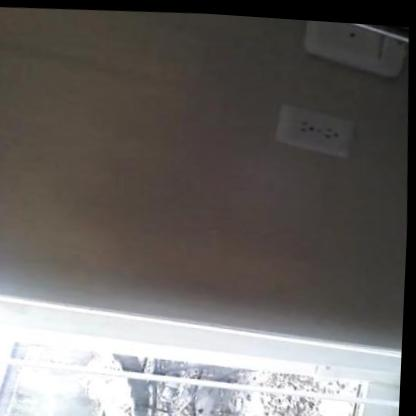OUTLET: (274, 104, 358, 156)
